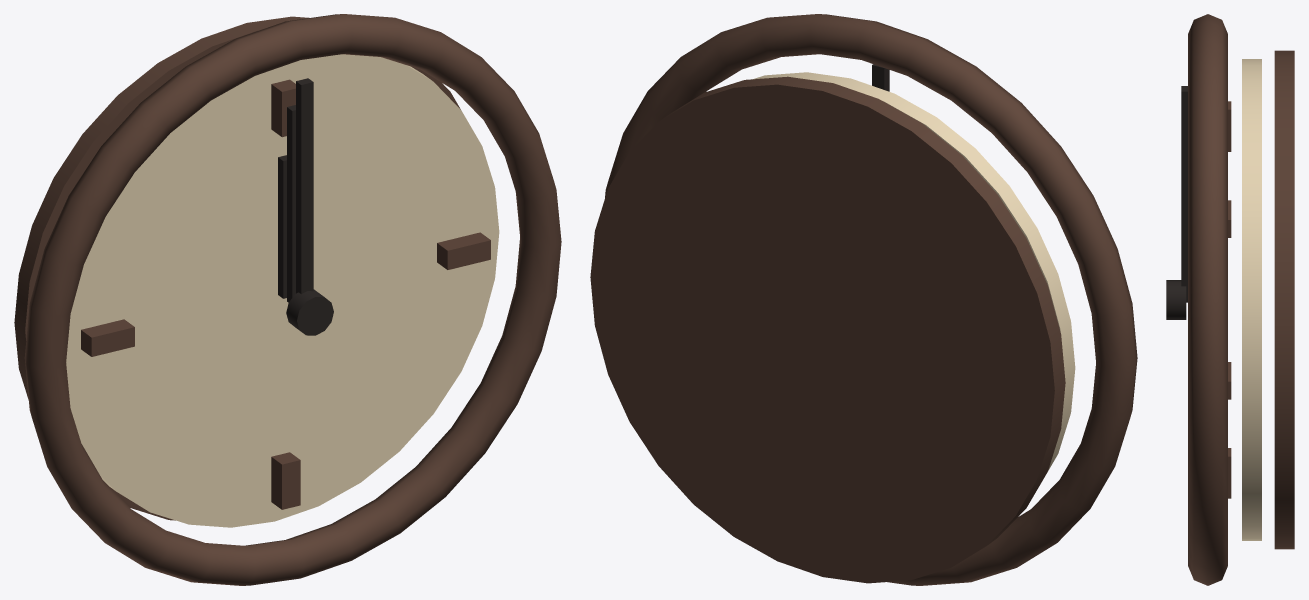
Rendered from variant-analog-round.glb.
3 views of the same model, side by side, from view 1: azimuth 30°, elevation 25°; view 2: azimuth 150°, elevation 25°; view 3: azimuth 270°, elevation 25° (orthographic). The views are drawn at different scales.
Parts seen in each view (by area): view 1: clock-face, clock-round-rim, clock-back, clock-second-hand, clock-minute-hand, clock-center-cap, clock-marker-3, clock-marker-4, clock-marker-2, clock-hour-hand, clock-marker-1; view 2: clock-back, clock-round-rim, clock-face; view 3: clock-round-rim, clock-back, clock-face, clock-second-hand, clock-center-cap, clock-marker-1, clock-marker-3.
Boxes of the visible parts, x1,y1,x2,y2 form: clock-face: (66, 54, 499, 527); clock-round-rim: (24, 14, 561, 585); clock-back: (14, 16, 460, 520); clock-second-hand: (296, 78, 313, 293); clock-minute-hand: (287, 105, 295, 302); clock-center-cap: (286, 289, 333, 335); clock-marker-3: (271, 452, 300, 509); clock-marker-4: (81, 319, 134, 356); clock-marker-2: (437, 232, 490, 269); clock-hour-hand: (278, 155, 286, 298); clock-marker-1: (271, 79, 295, 137); clock-back: (590, 76, 1065, 583); clock-round-rim: (605, 14, 1137, 585); clock-face: (753, 72, 1075, 470); clock-round-rim: (1188, 14, 1227, 585); clock-back: (1274, 50, 1294, 549); clock-face: (1242, 59, 1261, 540); clock-second-hand: (1181, 86, 1187, 302); clock-center-cap: (1166, 280, 1186, 319); clock-marker-1: (1228, 101, 1231, 151); clock-marker-3: (1228, 448, 1231, 498).
Bounding box in the file's own units: 0.344 × 0.344 × 0.077.
